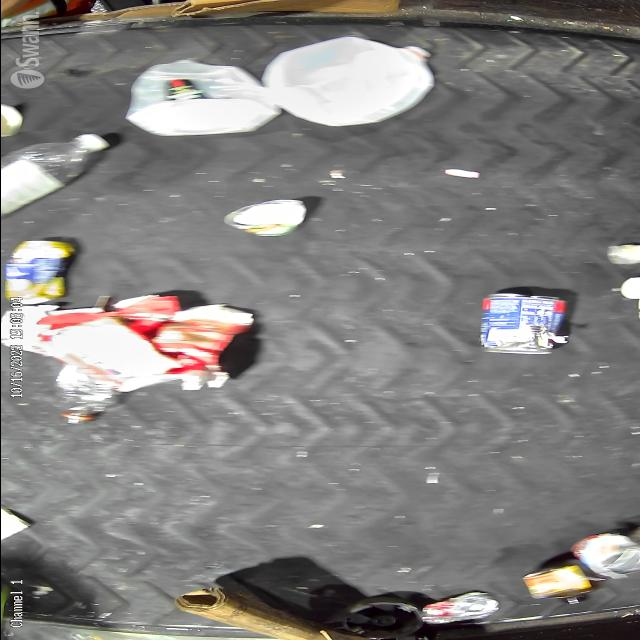can: (472, 290, 569, 354), (1, 236, 78, 306), (224, 196, 308, 239), (565, 532, 640, 578), (418, 590, 499, 624)
milk_jug: (260, 34, 436, 128), (124, 58, 278, 138)
plastic_bottle: (0, 134, 111, 216), (49, 362, 121, 427)
